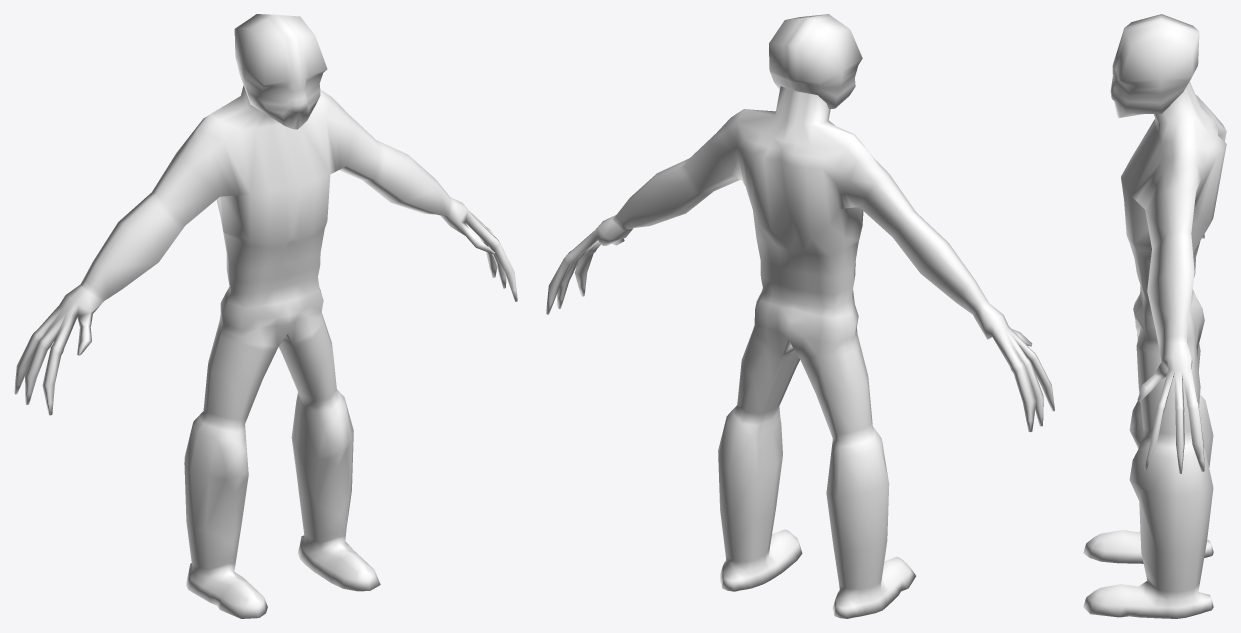
The model's file is creep2.gltf.
3 views of the same model, side by side, from view 1: azimuth 30°, elevation 25°; view 2: azimuth 150°, elevation 25°; view 3: azimuth 270°, elevation 25° (orthographic).
Parts seen in each view (by area): view 1: Creep; view 2: Creep; view 3: Creep.
Boxes of the visible parts, bbox=[...] form: Creep: bbox=[14, 14, 517, 618]; Creep: bbox=[546, 14, 1054, 618]; Creep: bbox=[1083, 14, 1226, 618].
Bounding box in the file's own units: 9.48 × 10.58 × 2.45.
2 materials, 2 textured.
